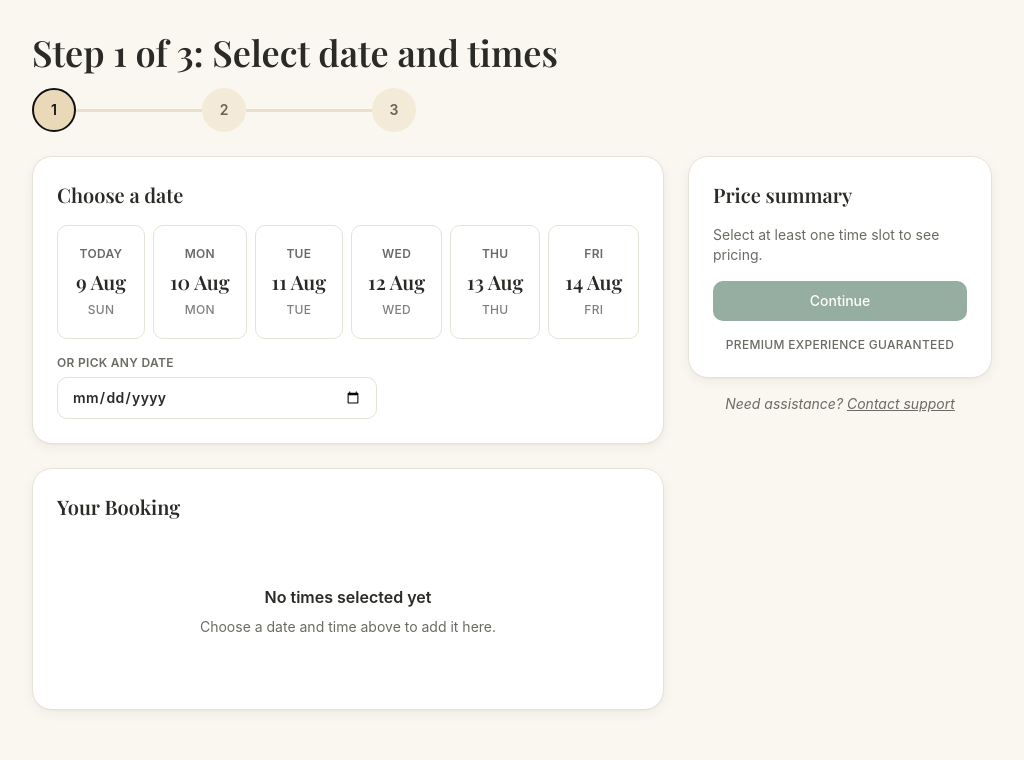
Test: BookingPage — step 2: quote review › disables Continue to payment when the quote failed to load
This screenshot has width=1024, height=760.
Click the button "Today 9 Aug Sun" at x=101, y=282, box [57,225,145,339]
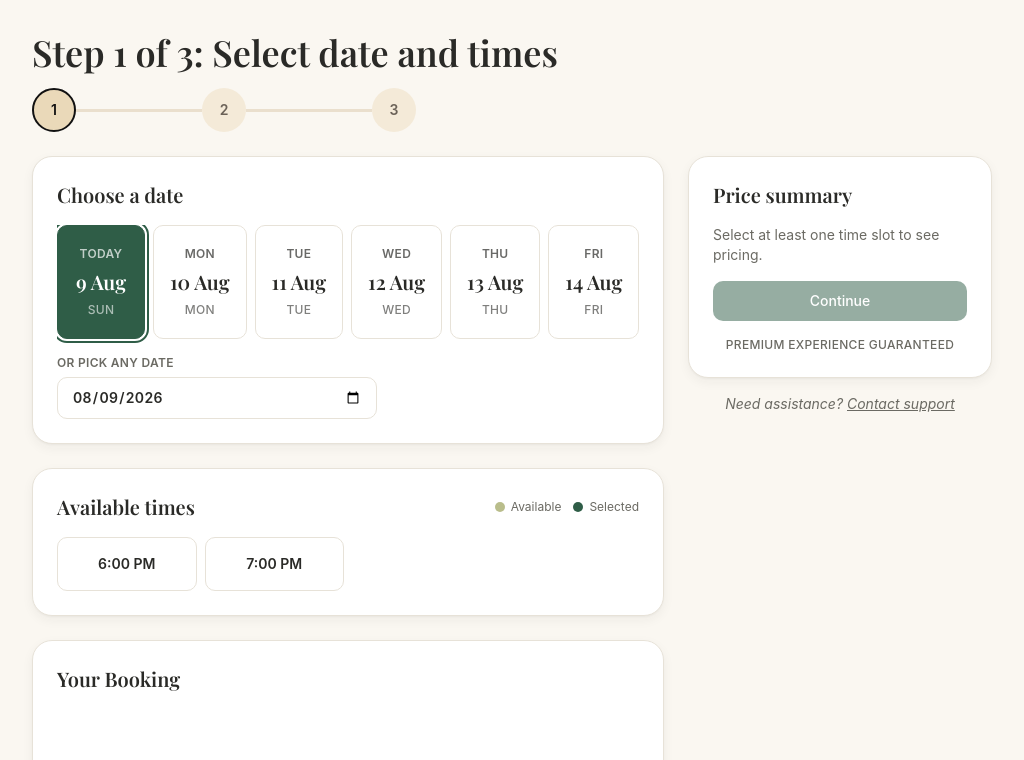
Click the button "6:00 PM" at x=127, y=564, box [57,537,196,591]
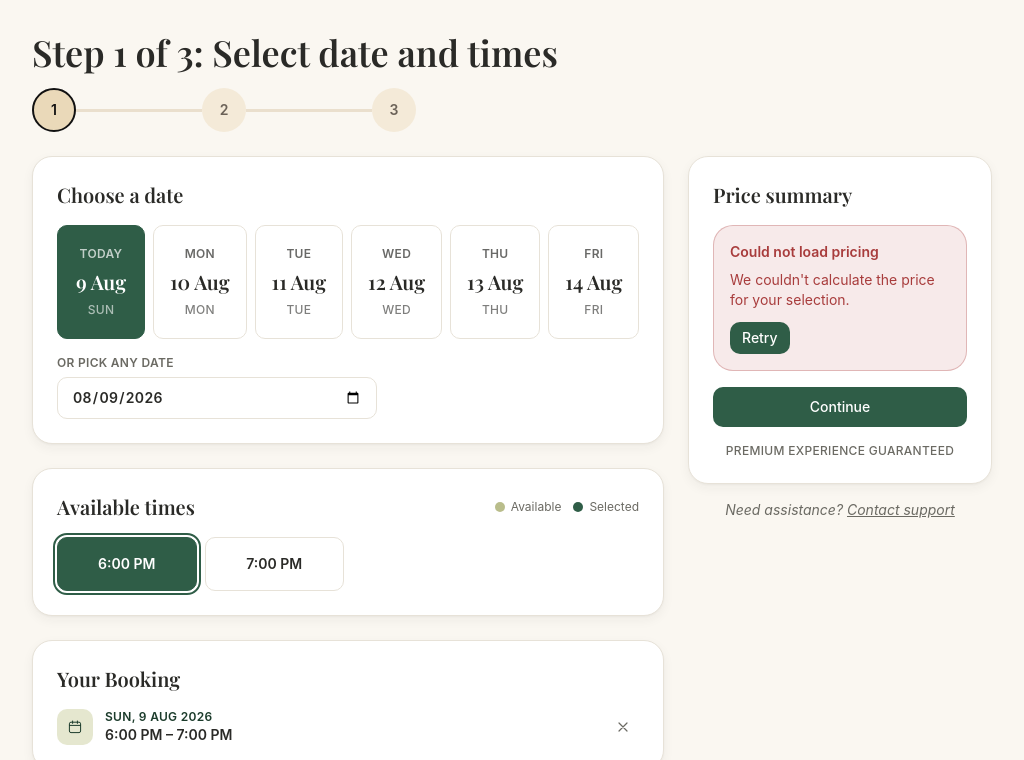
Click the button "Continue" at x=840, y=407, box [713,387,967,427]
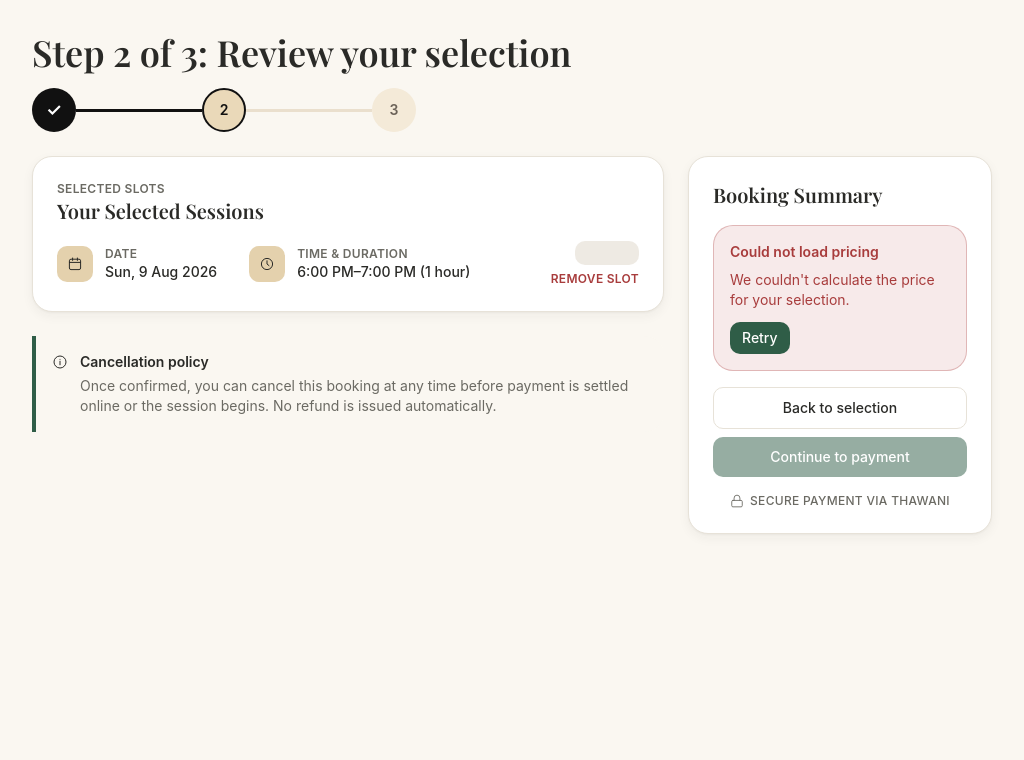
Now the message is shown, box [713,225,967,371]
Now the button "Continue to payment" is disabled, box [713,437,967,477]
